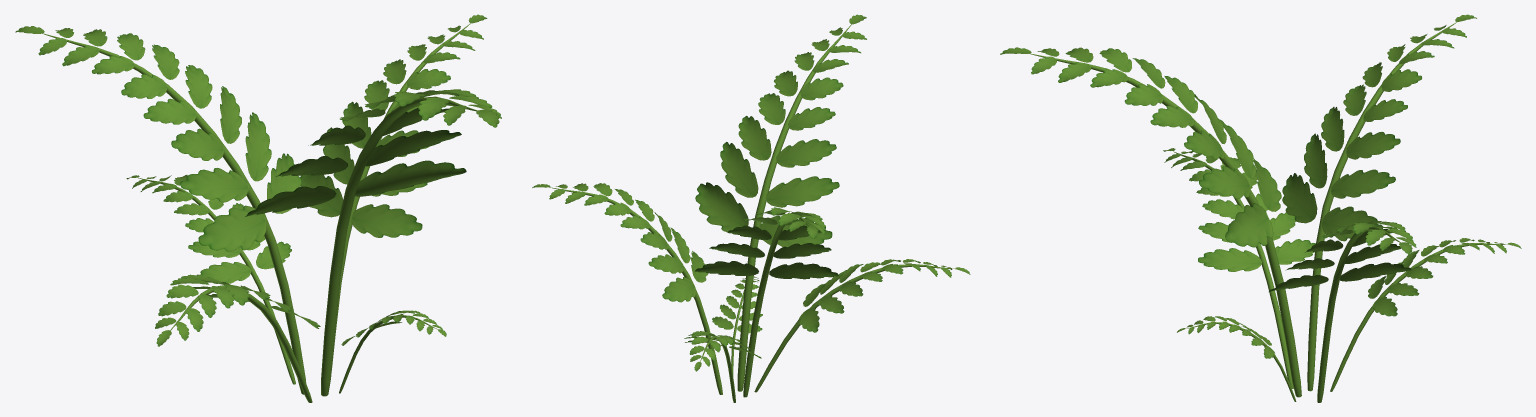
The model's file is fern.fbx.
The picture shows the model from 3 angles, left to right: view 1: azimuth 30°, elevation 25°; view 2: azimuth 150°, elevation 25°; view 3: azimuth 270°, elevation 25°; orthographic projection. The views are drawn at different scales.
Parts seen in each view (by area): view 1: fern_LOD_0; view 2: fern_LOD_0; view 3: fern_LOD_0.
Part boxes in pixels (x1,y1,x2,y2): fern_LOD_0: (15, 14, 501, 402); fern_LOD_0: (532, 14, 970, 402); fern_LOD_0: (1000, 14, 1521, 402).
Bounding box in the file's own units: 41.18 × 33.45 × 45.86.
